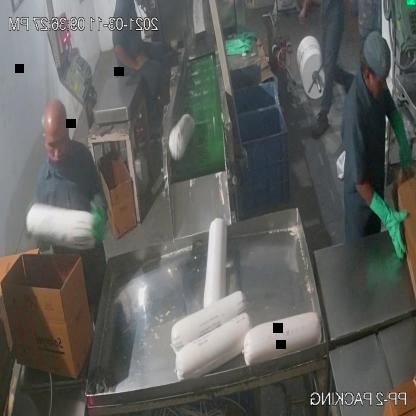glove: (361, 189, 411, 262)
no_glove: (108, 35, 150, 75)
